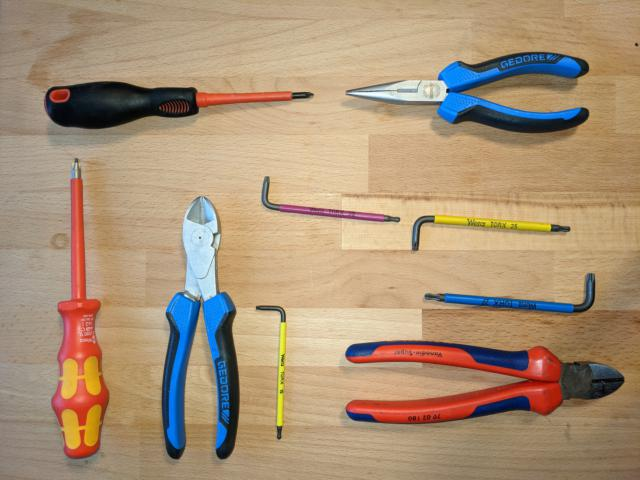Inbusschlüssel: (422, 270, 600, 317), (258, 173, 404, 227), (408, 212, 572, 255), (253, 300, 290, 443)
Schraubendreher: (47, 154, 114, 462), (41, 76, 317, 134)
Seitenschneider: (341, 337, 628, 427), (156, 192, 245, 462)
Zange: (343, 49, 593, 138)
